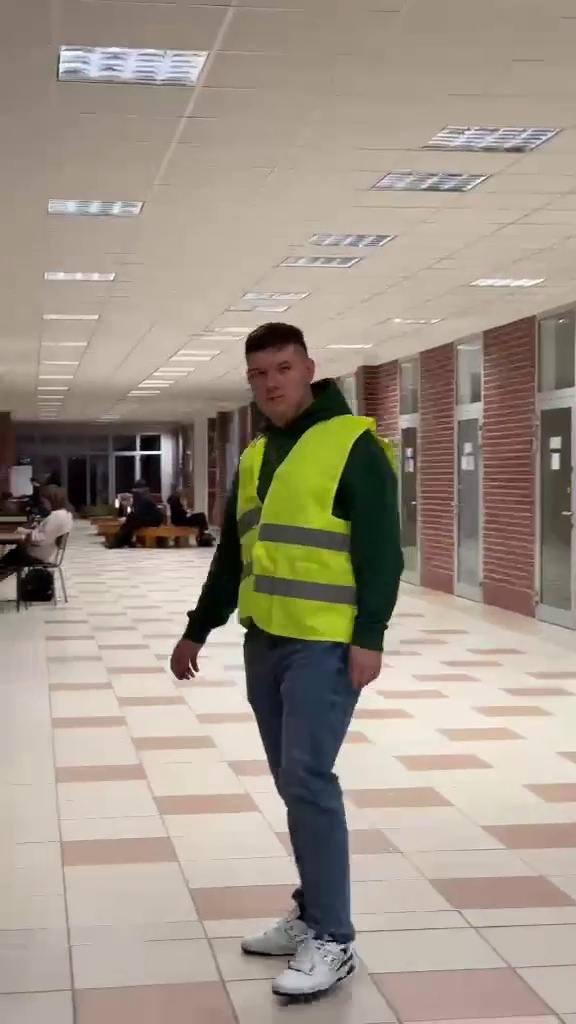vest: (160, 319, 408, 1014)
